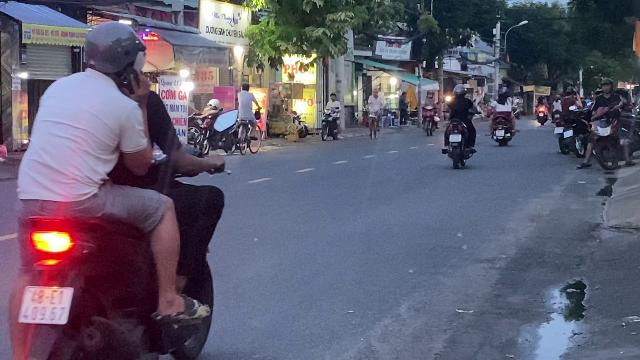helmet: (80, 20, 146, 84)
licenseplate: (18, 286, 74, 326)
motorcyclist: (0, 22, 232, 360)
